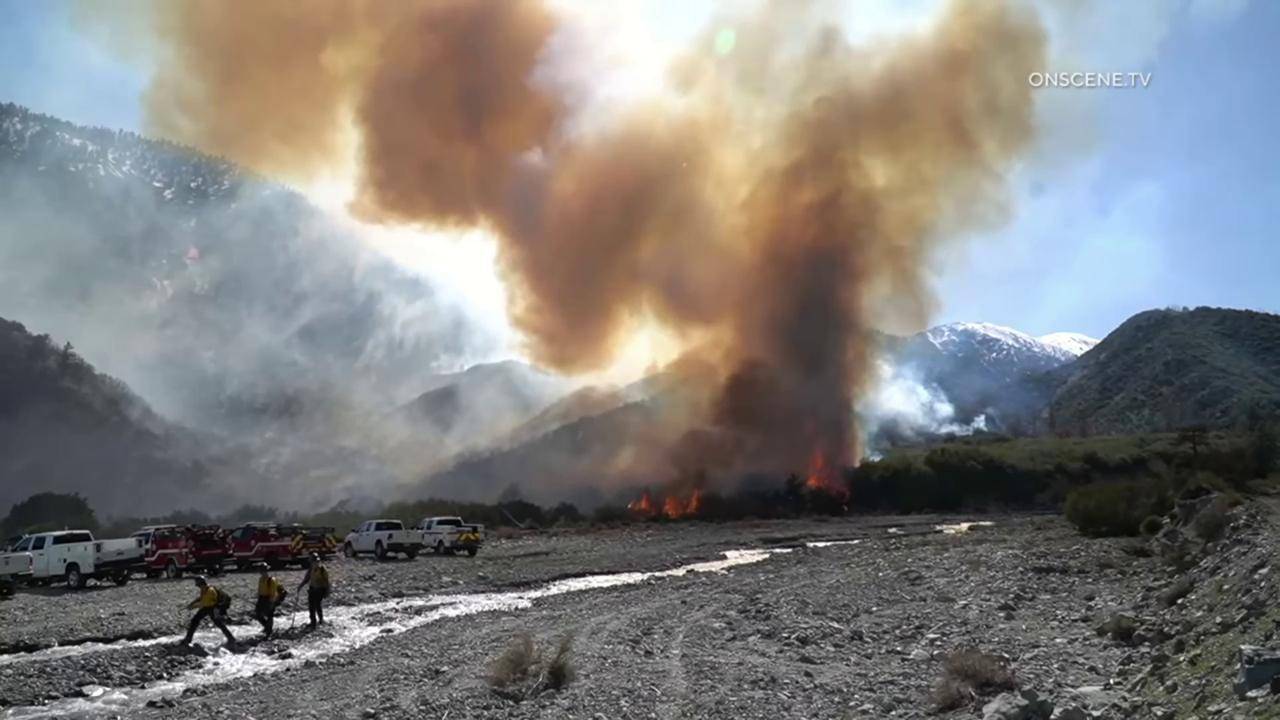fire: (806, 448, 851, 504), (663, 487, 703, 520), (626, 492, 652, 510)
smoke: (0, 0, 1059, 536)
